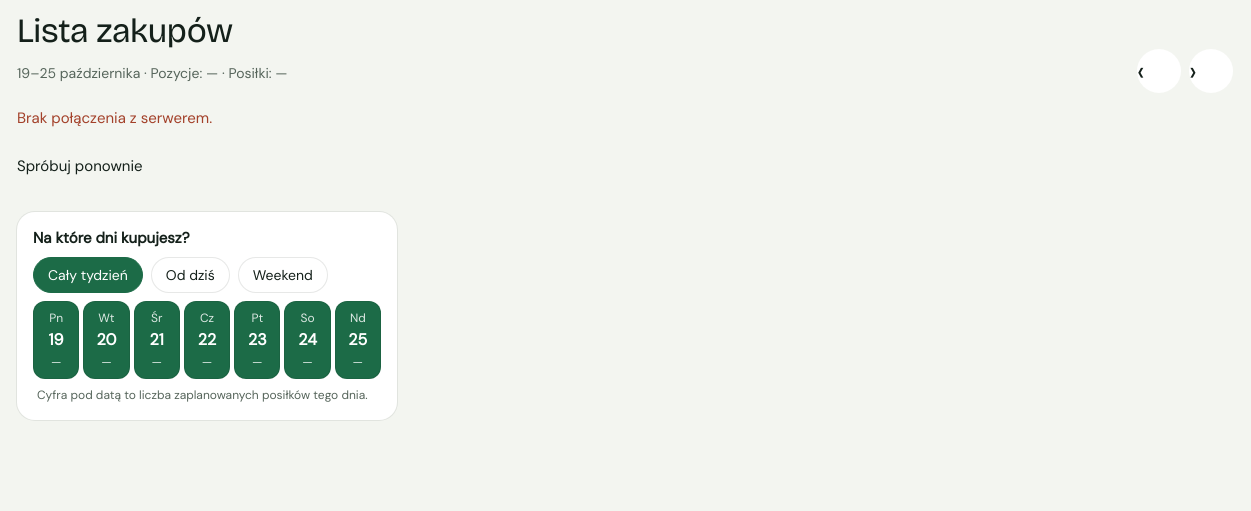
Test case: błąd pobierania nie pokazuje fałszywego pustego stanu i ma ponowienie
expect the message "Brak połączenia z serwerem." is shown: met, box [17,108,212,128]
Click the button "Spróbuj ponownie".
click(80, 166)  # box [17,144,143,188]
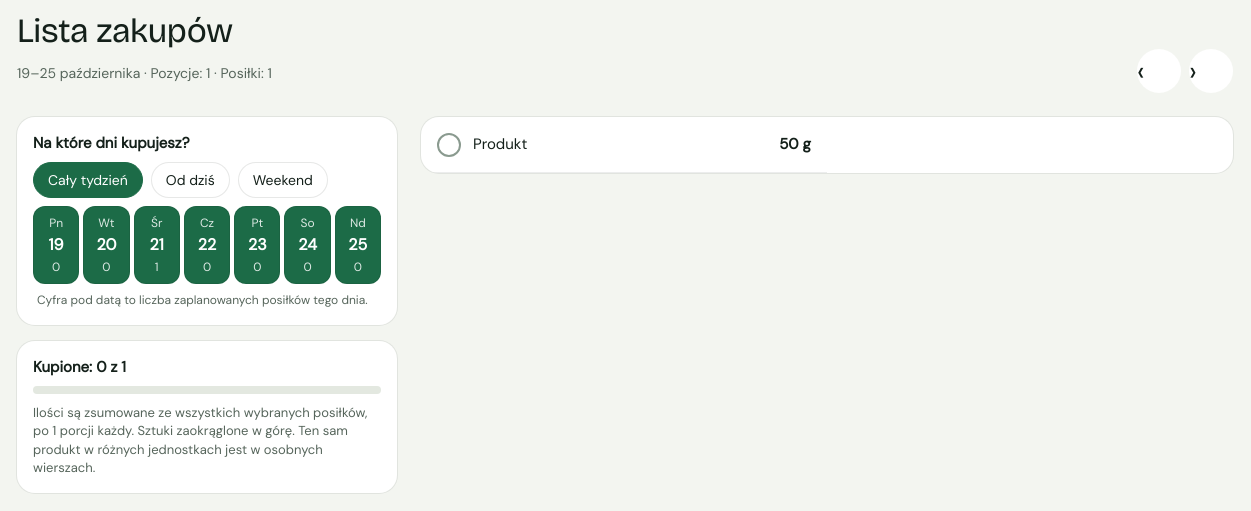
expect the button with aria-label "Produkt, 50 g" is shown: met, box [421,117,827,173]
